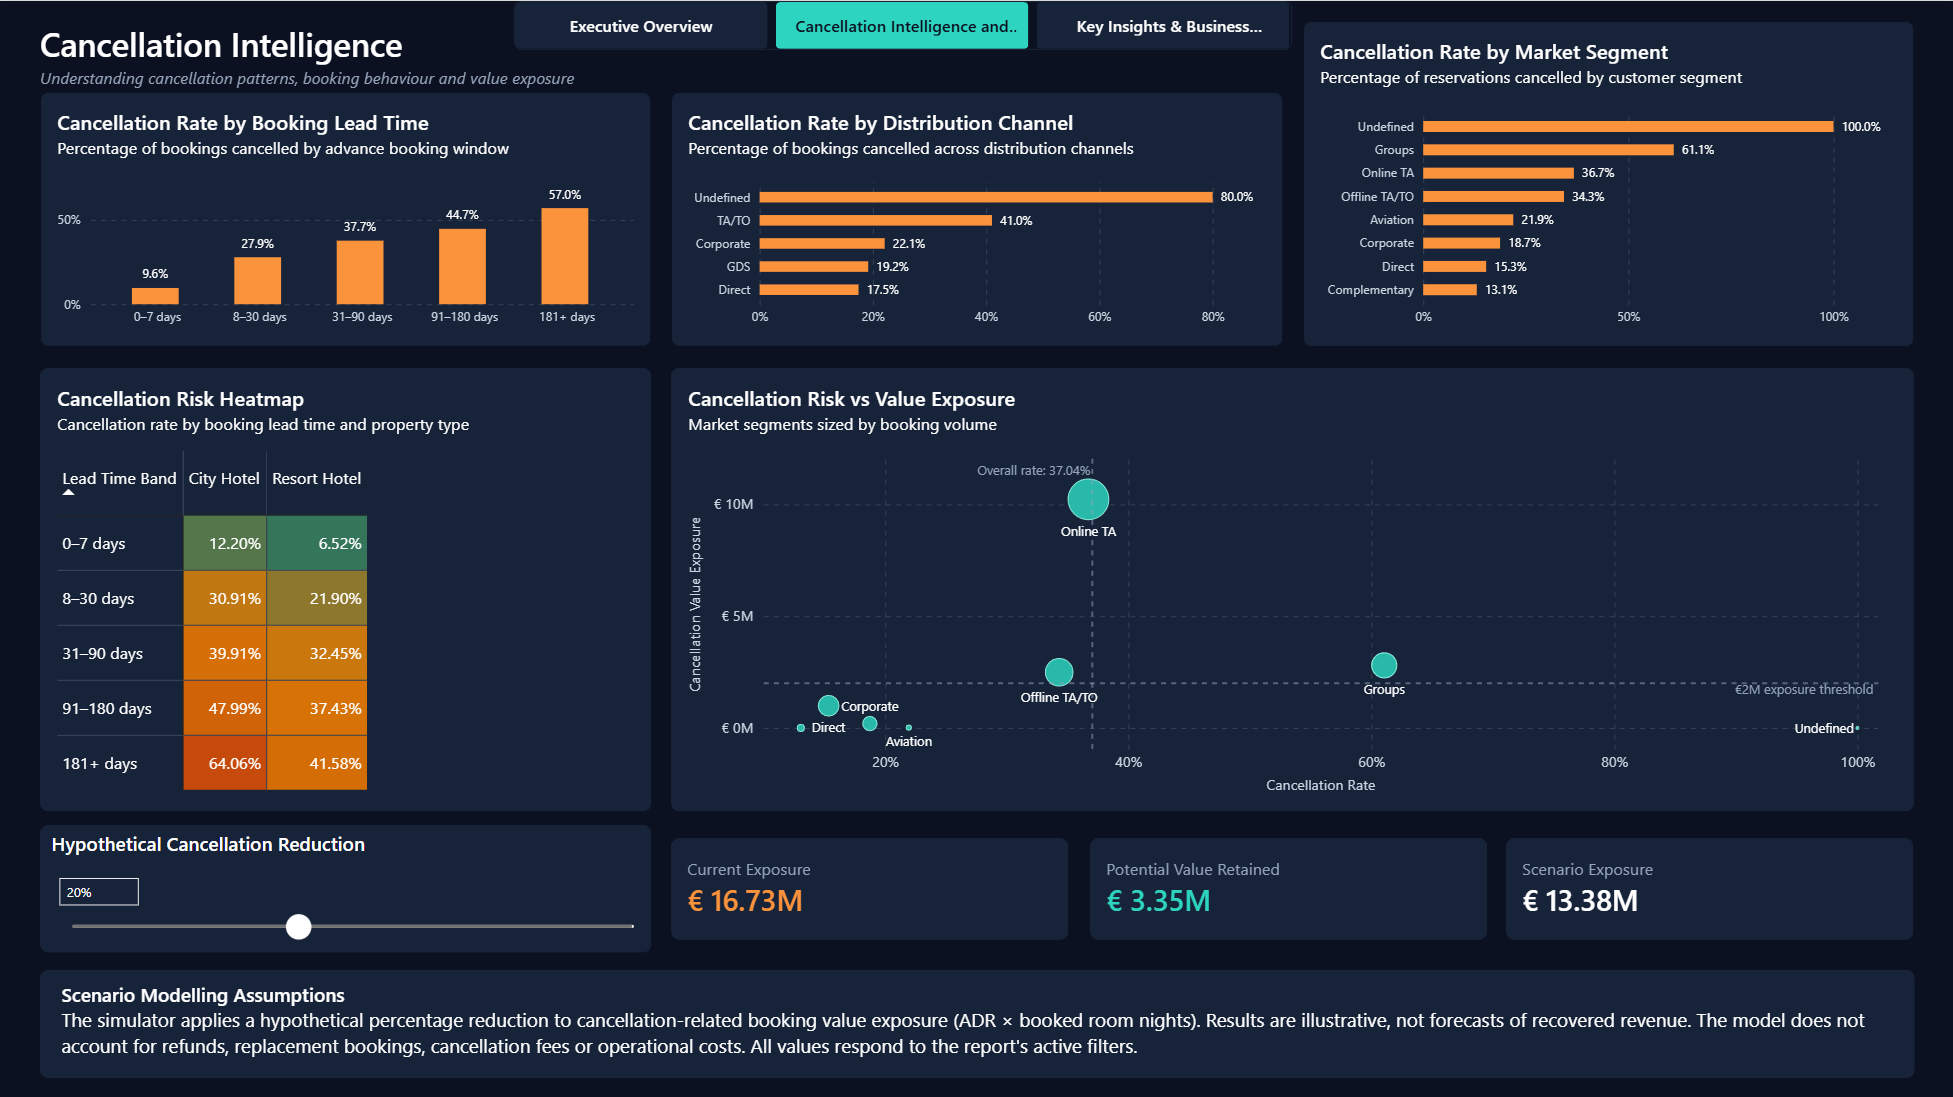

The dashboard page shown, as its layout file describes it:
{"tool":"powerbi","page":{"name":"Cancellation Intelligence and interactive simulator","canvas":[1920,1080],"ordinal":1},"visuals":[{"type":"textbox","title":"Cancellation Intelligence","box":[40.2,19.6,1200,70],"z":0},{"type":"clusteredColumnChart","title":"\tCancellation Rate by Booking Lead Time","fields":{"Category":["FactBookings.Lead Time Band"],"Y":["FactBookings.Cancellation Rate"]},"box":[40.2,89.3,599.8,250.3],"z":1000},{"type":"clusteredBarChart","title":"Cancellation Rate by Market Segment","fields":{"Category":["DimSegment.MarketSegment"],"Y":["FactBookings.Cancellation Rate"]},"box":[1280,19.6,599.8,320],"z":2000},{"type":"clusteredBarChart","title":"\tCancellation Rate by Distribution Channel","fields":{"Category":["DimChannel.DistributionChannel"],"Y":["FactBookings.Cancellation Rate"]},"box":[659.6,89.3,600.7,250.3],"z":4000},{"type":"pivotTable","title":"Cancellation Risk Heatmap","fields":{"Columns":["DimHotel.HotelType"],"Rows":["FactBookings.Lead Time Band"],"Values":["FactBookings.Cancellation Rate"]},"box":[40.2,360.2,599.8,434.8],"z":5000},{"type":"scatterChart","title":"Cancellation Risk vs Value Exposure","fields":{"Category":["DimSegment.MarketSegment"],"Size":["FactBookings.Total Bookings"],"X":["FactBookings.Cancellation Rate"],"Y":["FactBookings.Cancellation Value Exposure"]},"box":[659.6,360.2,1220.1,434.8],"z":6000},{"type":"slicer","title":"Hypothetical Cancellation Reduction","fields":{"Values":["Cancellation Reduction.Cancellation Reduction"]},"box":[40.2,808.8,600,125],"z":7000},{"type":"cardVisual","fields":{"Data":["FactBookings.Cancellation Value Exposure"]},"box":[659.6,821.6,390,100],"z":8000},{"type":"cardVisual","fields":{"Data":["Cancellation Reduction.Scenario Cancellation Exposure"]},"box":[1479.3,821.6,400,100],"z":9000},{"type":"cardVisual","fields":{"Data":["Cancellation Reduction.Potential Value Retained"]},"box":[1070.9,821.6,390,100],"z":10000},{"type":"textbox","box":[40.2,951.2,1839.5,106],"z":12000},{"type":"pageNavigator","box":[506,0,764,48],"z":12001}]}

Visuals, with their boxes in screenshot pixels (x1, y1, x2, y2), scaled from the page's 1920x1080 canvas onto the 1953x1097 screenshot:
"Cancellation Intelligence" textbox: 41, 20, 1262, 91
"	Cancellation Rate by Booking Lead Time" clusteredColumnChart: 41, 91, 651, 345
"Cancellation Rate by Market Segment" clusteredBarChart: 1302, 20, 1912, 345
"	Cancellation Rate by Distribution Channel" clusteredBarChart: 671, 91, 1282, 345
"Cancellation Risk Heatmap" pivotTable: 41, 366, 651, 808
"Cancellation Risk vs Value Exposure" scatterChart: 671, 366, 1912, 808
"Hypothetical Cancellation Reduction" slicer: 41, 822, 651, 948
cardVisual - FactBookings.Cancellation Value Exposure: 671, 835, 1068, 936
cardVisual - Cancellation Reduction.Scenario Cancellation Exposure: 1505, 835, 1912, 936
cardVisual - Cancellation Reduction.Potential Value Retained: 1089, 835, 1486, 936
textbox: 41, 966, 1912, 1074
pageNavigator: 515, 0, 1292, 49
